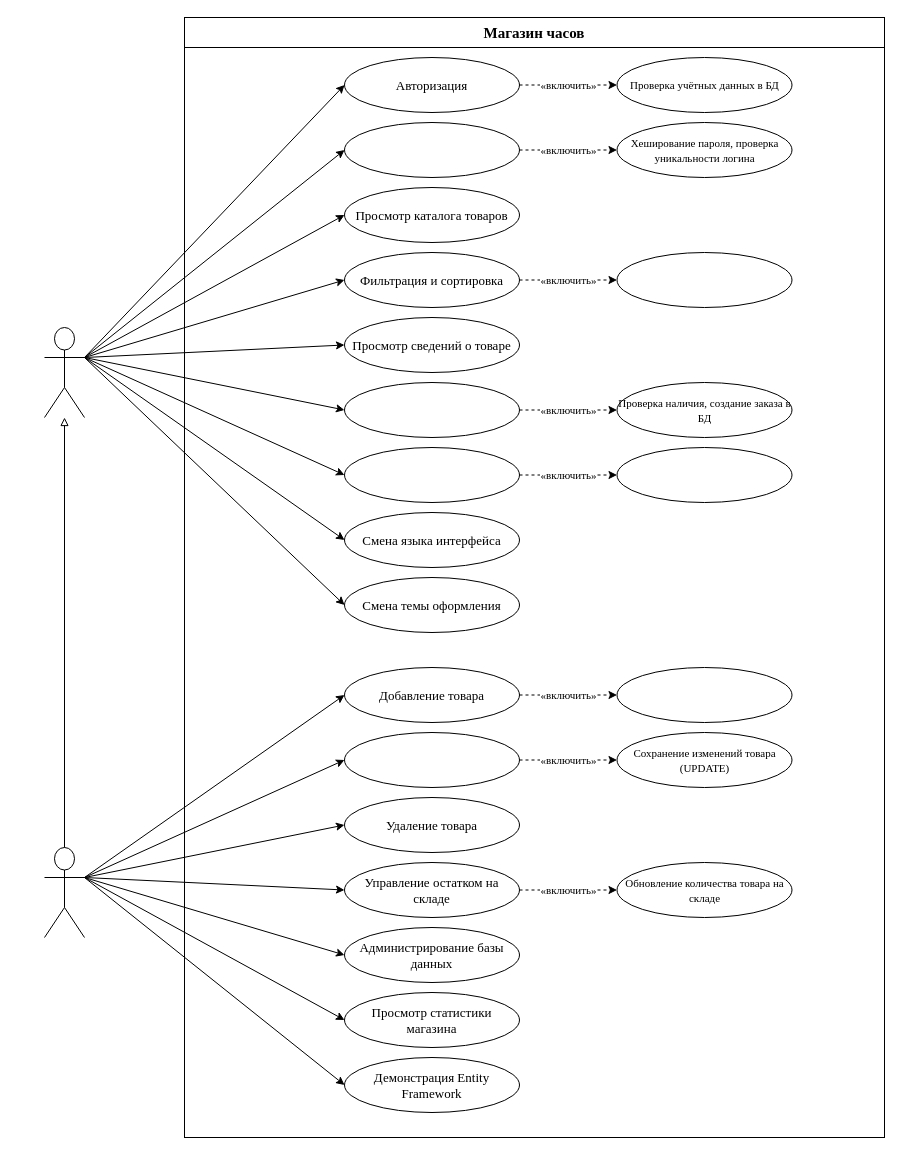
Some shapes in this 902 by 1155 pixel diagram are drawn without their labels. The shapes that lost their labels are listed below. From the top down, each one's centre as x and y in pixels, then its label:
At point (432, 150): "Регистрация".
At point (704, 280): "Поиск, фильтр по категории, цене и наличию".
At point (64, 372): "Покупатель".
At point (432, 410): "Оформление заказа".
At point (432, 474): "Редактирование профиля".
At point (704, 474): "Сохранение данных профиля пользователя".
At point (704, 694): "Запись нового товара в БД (INSERT)".
At point (432, 760): "Редактирование товара".
At point (64, 892): "Администратор".
